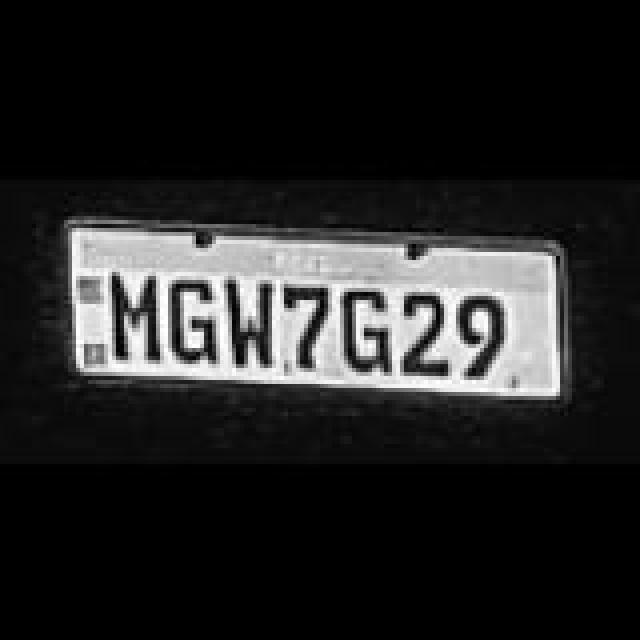2: (400, 290, 448, 374)
7: (284, 280, 332, 368)
9: (460, 290, 508, 374)
G: (166, 276, 218, 364), (344, 284, 392, 372)
M: (110, 272, 162, 360)
W: (226, 276, 278, 364)
